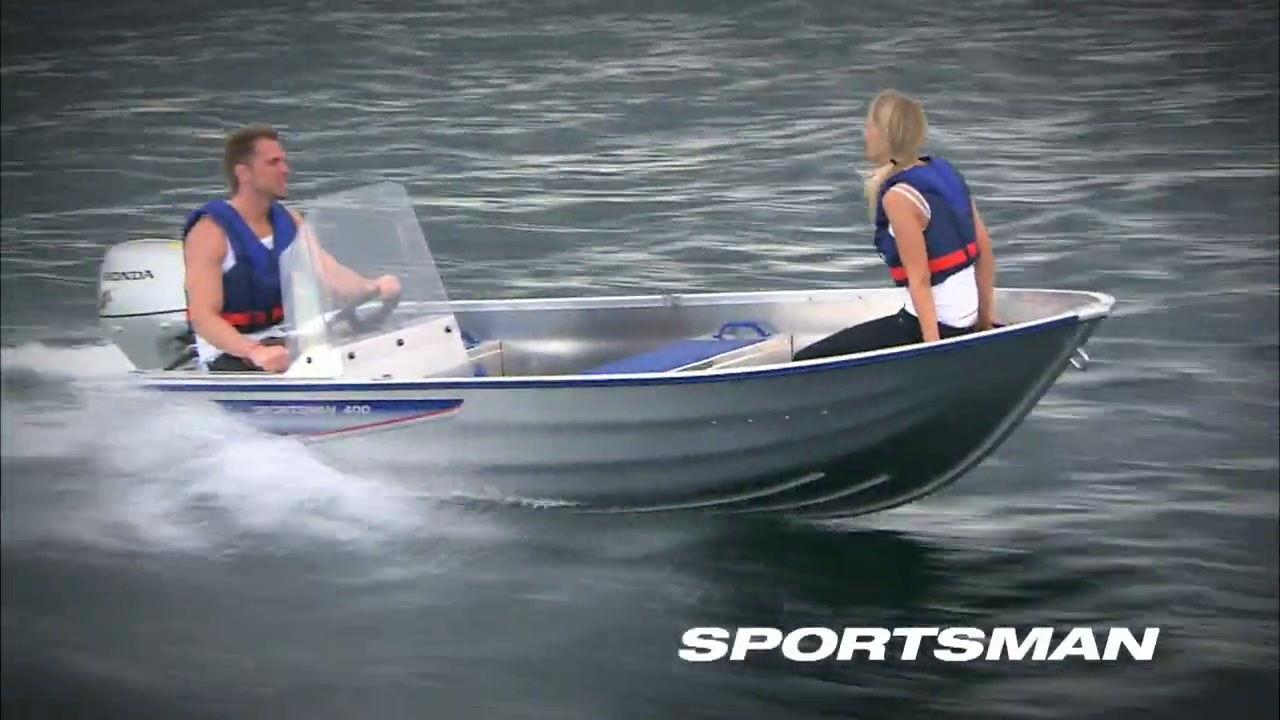boat: (94, 180, 1115, 530)
